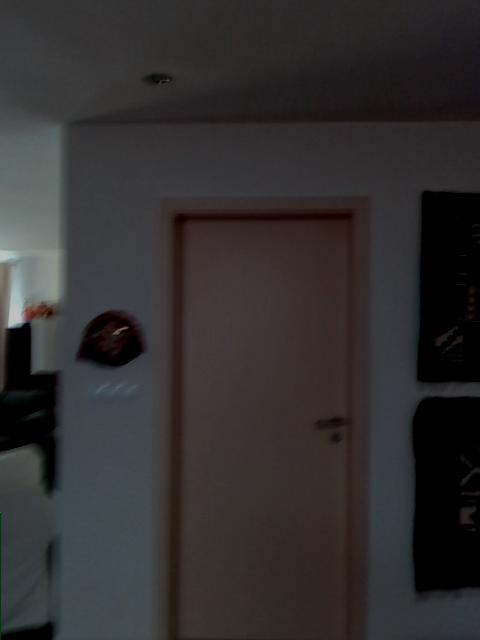closed_door: (166, 193, 367, 638)
